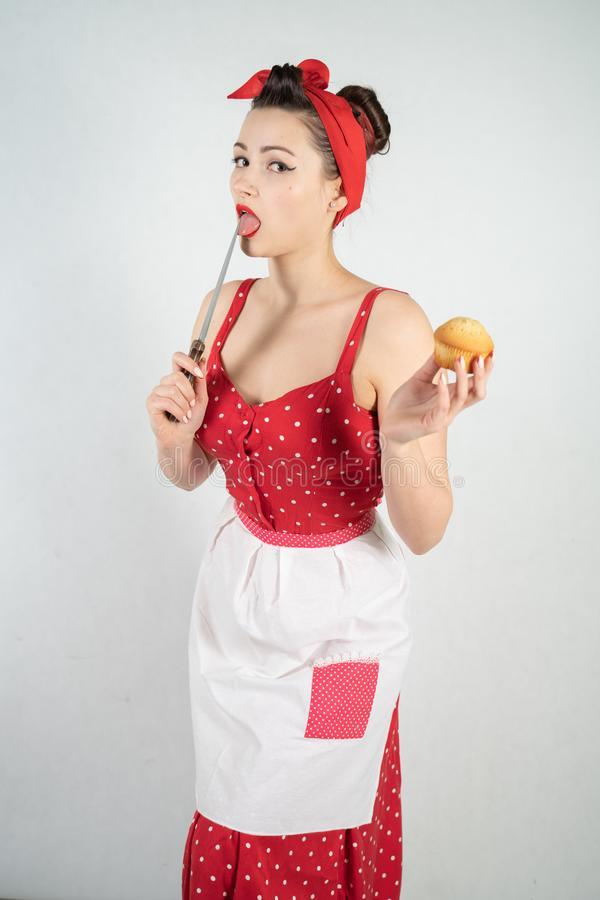criminal: (144, 56, 498, 900)
weapon: (160, 214, 246, 429)
